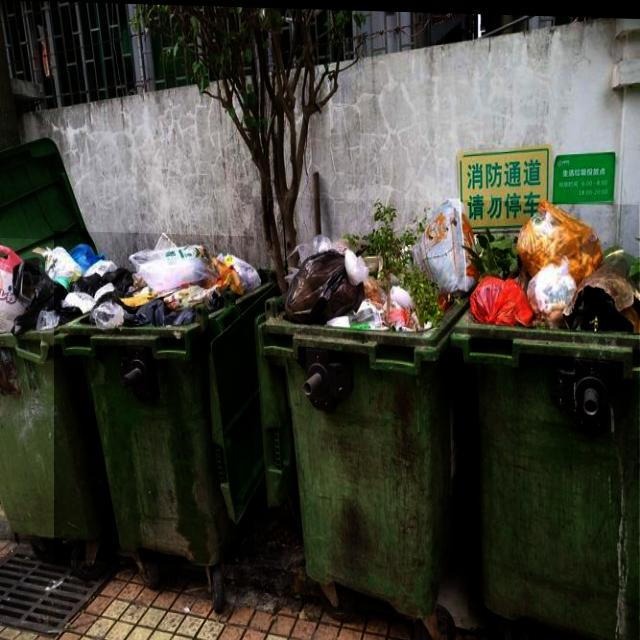overflow: (254, 195, 468, 614), (447, 196, 639, 640), (54, 230, 260, 564), (0, 238, 113, 541)
